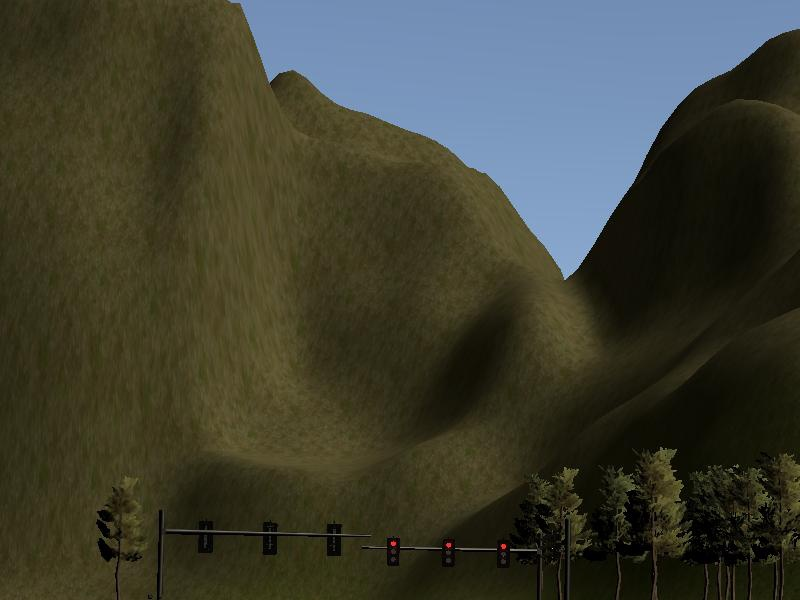red_light: (387, 538, 400, 565), (443, 540, 455, 566), (499, 542, 511, 567)
